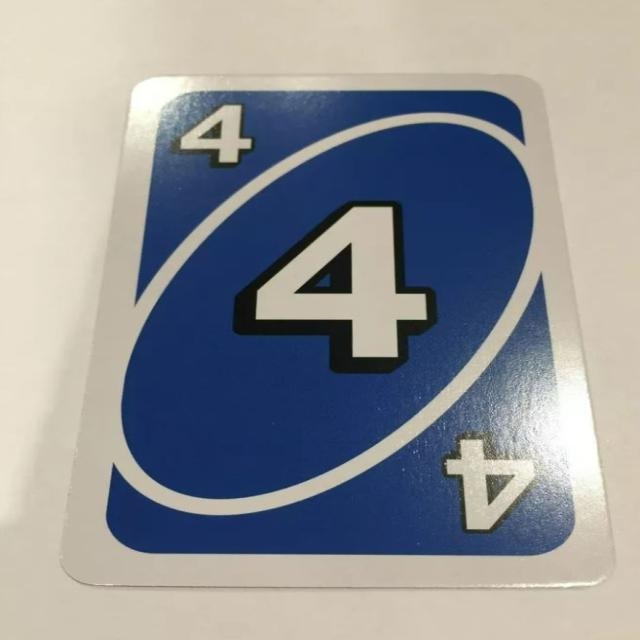Blue_Card: (96, 84, 586, 559)
Number_4: (170, 92, 260, 172)
